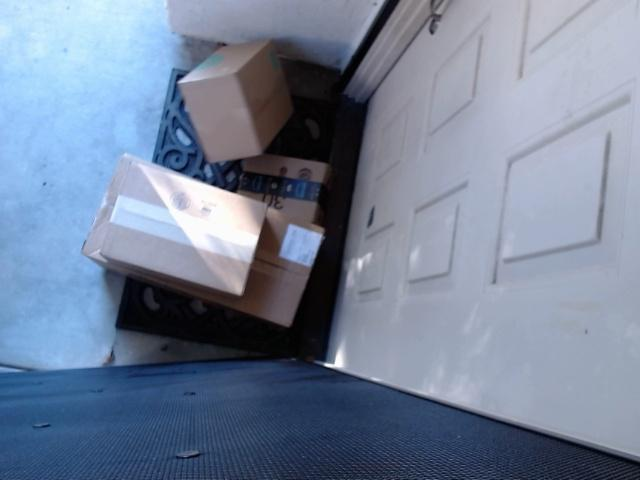box: (97, 138, 324, 319), (89, 159, 266, 292), (169, 21, 308, 156), (223, 142, 335, 238)
